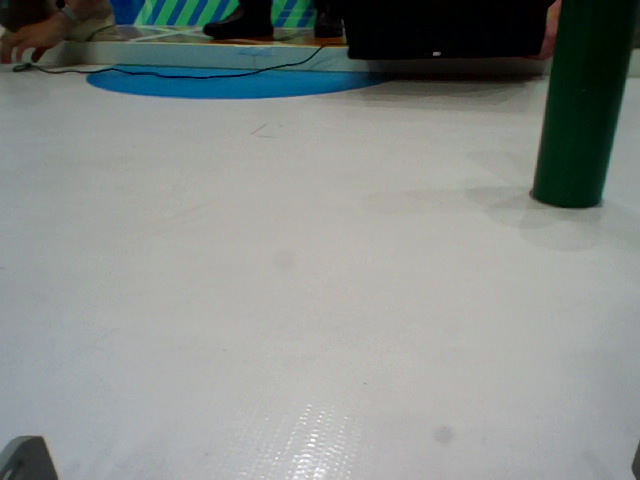zhuzi: (524, 1, 635, 218)
